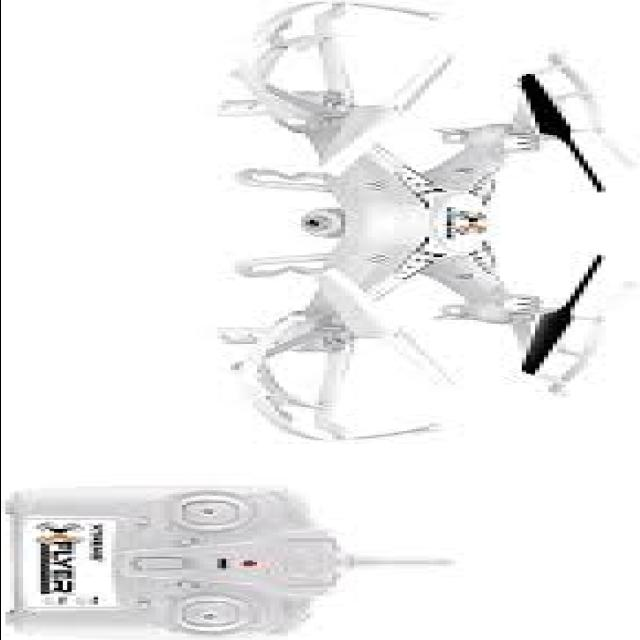drone: (131, 0, 625, 449)
